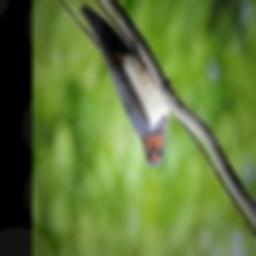Swallow: (57, 0, 170, 168)
